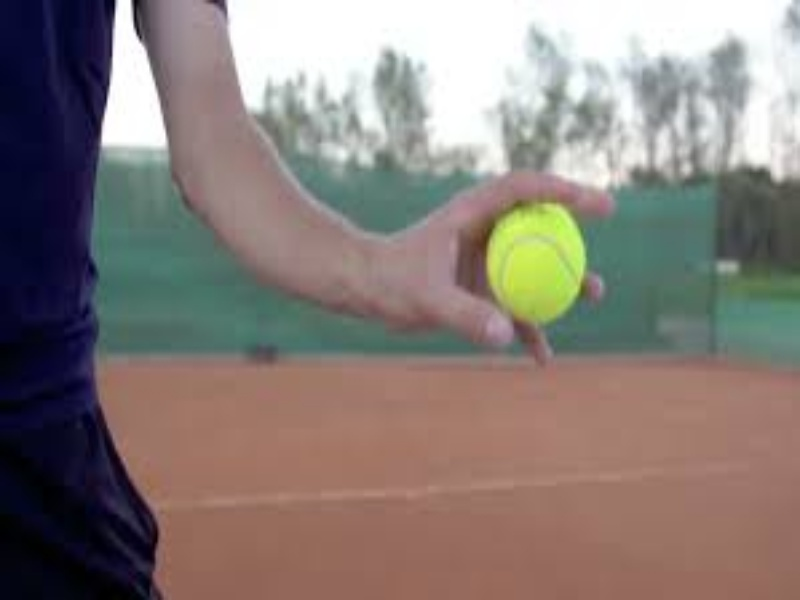tennis ball: (478, 204, 614, 338)
